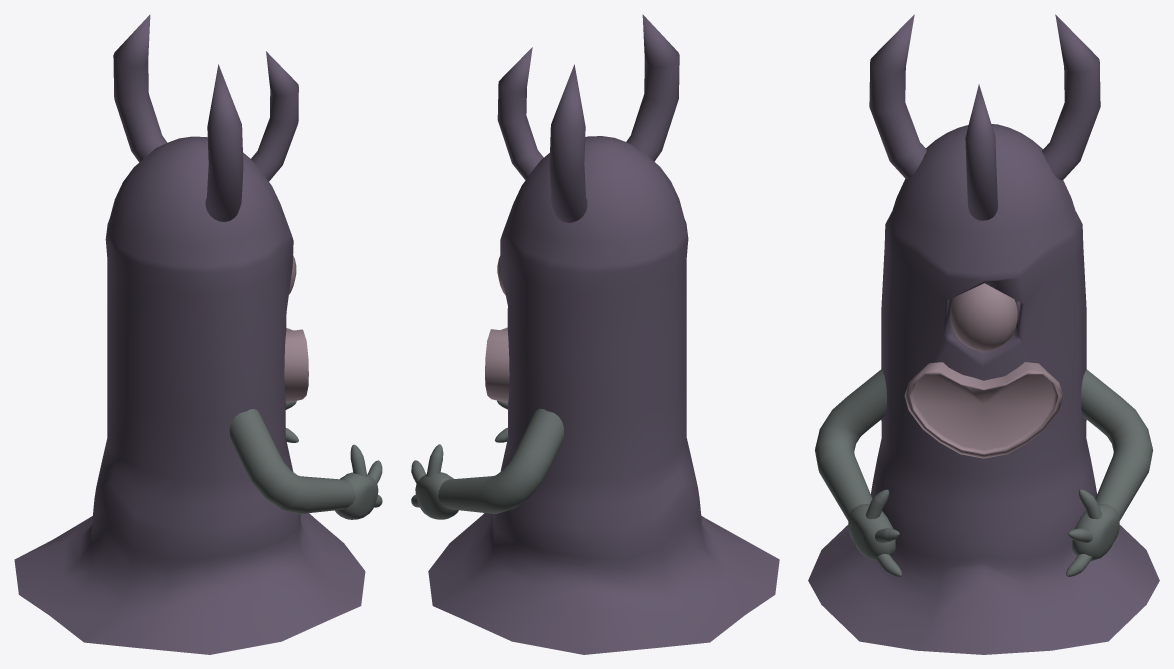
The model's file is Bob.fbx.
3 views of the same model, side by side, from view 1: azimuth 30°, elevation 25°; view 2: azimuth 150°, elevation 25°; view 3: azimuth 270°, elevation 25° (orthographic). The views are drawn at different scales.
Visible parts, largest first — view 1: pSphere1, pCylinder4, polySurface6, pCylinder1; view 2: pSphere1, pCylinder4, polySurface1, pCylinder1; view 3: pSphere1, pCylinder4, pCylinder1, polySurface6, polySurface1, pSphere2.
Boxes of the visible parts, left/top/right/bottom form: pSphere1: left=14, top=136, right=365, bottom=654; pCylinder4: left=113, top=14, right=298, bottom=221; polySurface6: left=229, top=409, right=382, bottom=519; pCylinder1: left=284, top=328, right=308, bottom=402; pSphere1: left=428, top=136, right=779, bottom=654; pCylinder4: left=497, top=14, right=679, bottom=222; polySurface1: left=411, top=408, right=563, bottom=519; pCylinder1: left=485, top=327, right=509, bottom=402; pSphere1: left=808, top=124, right=1159, bottom=654; pCylinder4: left=869, top=14, right=1100, bottom=220; pCylinder1: left=904, top=362, right=1063, bottom=458; polySurface6: left=815, top=369, right=901, bottom=576; polySurface1: left=1066, top=369, right=1152, bottom=576; pSphere2: left=950, top=283, right=1017, bottom=351.
Bounding box in the file's own units: 706 × 1260 × 706.
